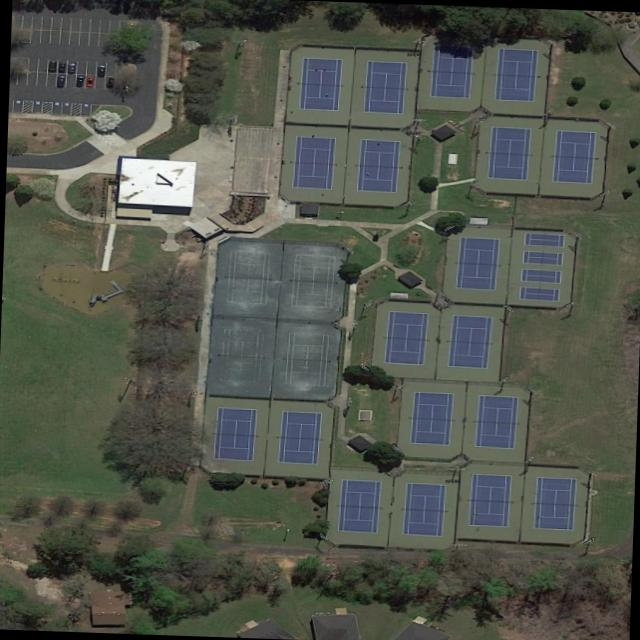small-vehicle: (93, 63, 105, 75), (65, 61, 76, 73), (102, 74, 113, 86), (45, 59, 56, 70), (54, 74, 64, 86), (73, 74, 83, 86), (83, 74, 93, 86), (54, 61, 65, 71)
